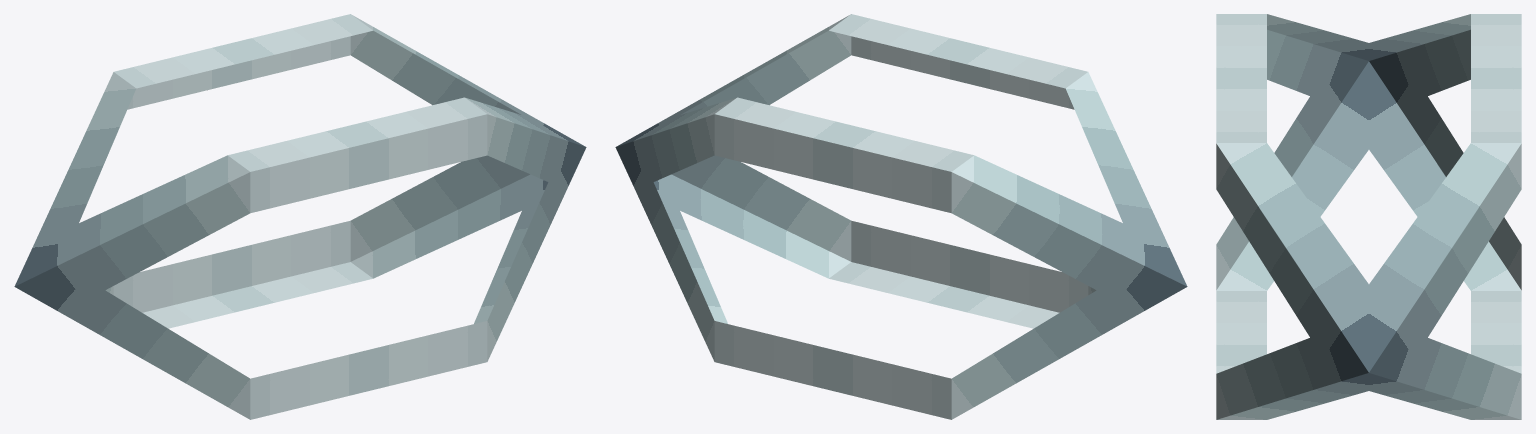
File: occulus_eye_shell.obj
3 views of the same model, side by side, from view 1: azimuth 30°, elevation 25°; view 2: azimuth 150°, elevation 25°; view 3: azimuth 270°, elevation 25° (orthographic). The views are drawn at different scales.
Visible parts, largest first — view 1: OCCULUS_EYESHELL; view 2: OCCULUS_EYESHELL; view 3: OCCULUS_EYESHELL.
Part boxes in pixels (x1,y1,x2,y2): OCCULUS_EYESHELL: [14, 14, 586, 419]; OCCULUS_EYESHELL: [615, 14, 1187, 419]; OCCULUS_EYESHELL: [1216, 14, 1521, 419].
Bounding box in the file's own units: 0.9053 × 0.375 × 0.375.
